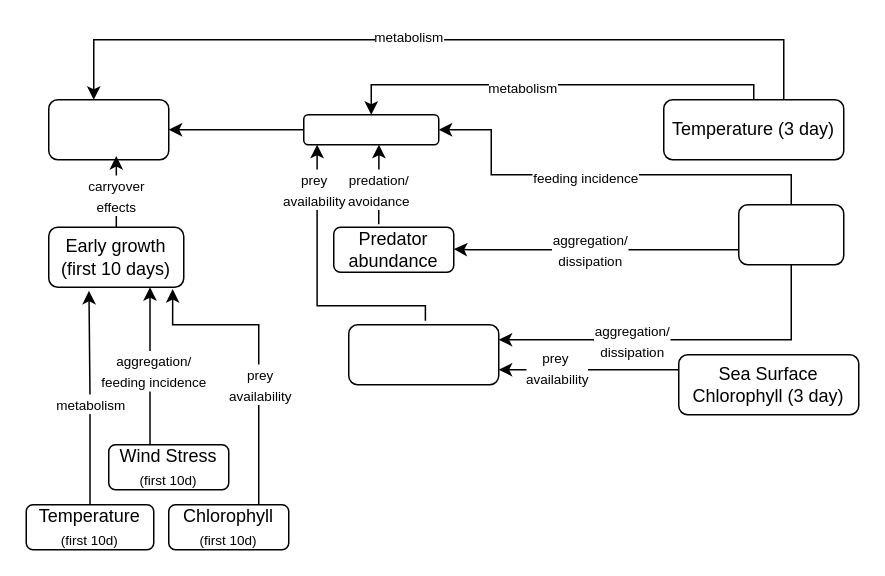
The diagram is 885 pixels wide and 576 high, and some of its shapes have lost their labels. Here are the shapes that lost their labels. From the top down, the centre of each, then its label:
At point (108, 129): "Larval Recent Growth".
At point (370, 129): "Gut Fullness".
At point (790, 234): "Wind Stress (3 day)".
At point (423, 354): "Appendicularian abundance".
